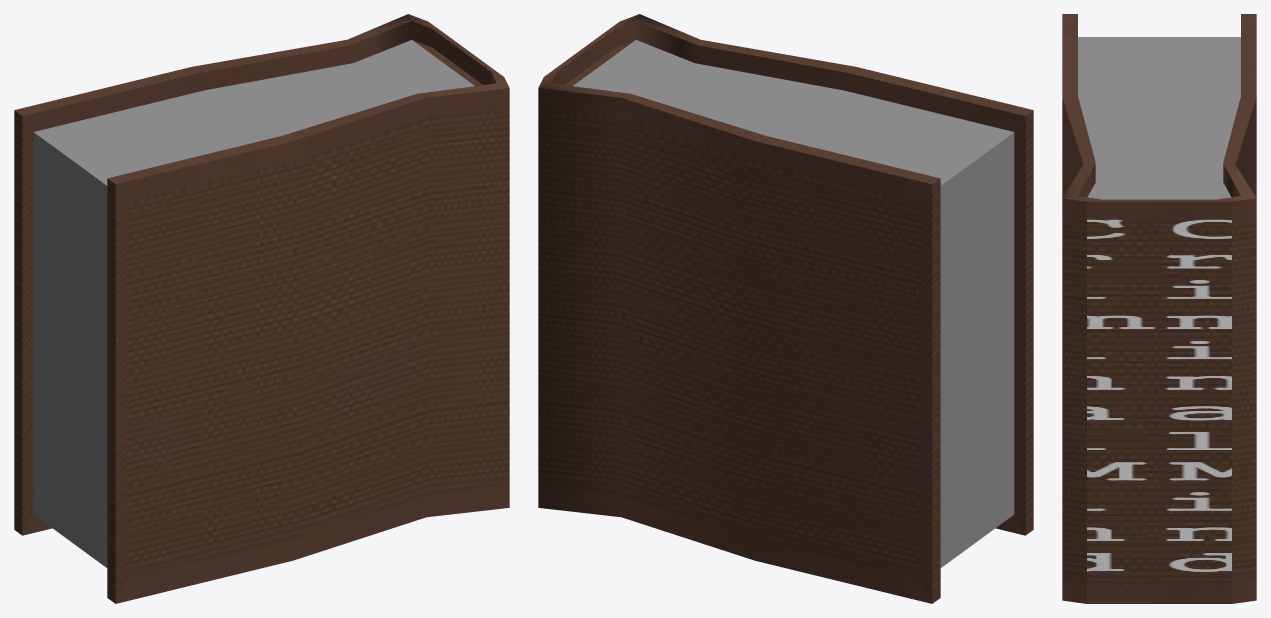
Rendered from book_criminalmind.FBX.
3 views of the same model, side by side, from view 1: azimuth 30°, elevation 25°; view 2: azimuth 150°, elevation 25°; view 3: azimuth 270°, elevation 25° (orthographic). The views are drawn at different scales.
Parts seen in each view (by area): view 1: Box002; view 2: Box002; view 3: Box002.
Part boxes in pixels (<box>): Box002: <box>14,14,509,603</box>; Box002: <box>538,14,1033,603</box>; Box002: <box>1062,14,1256,603</box>.
Size of the model in its own units: 30.45 by 13.33 by 30.41.
3 materials, 2 textured.
